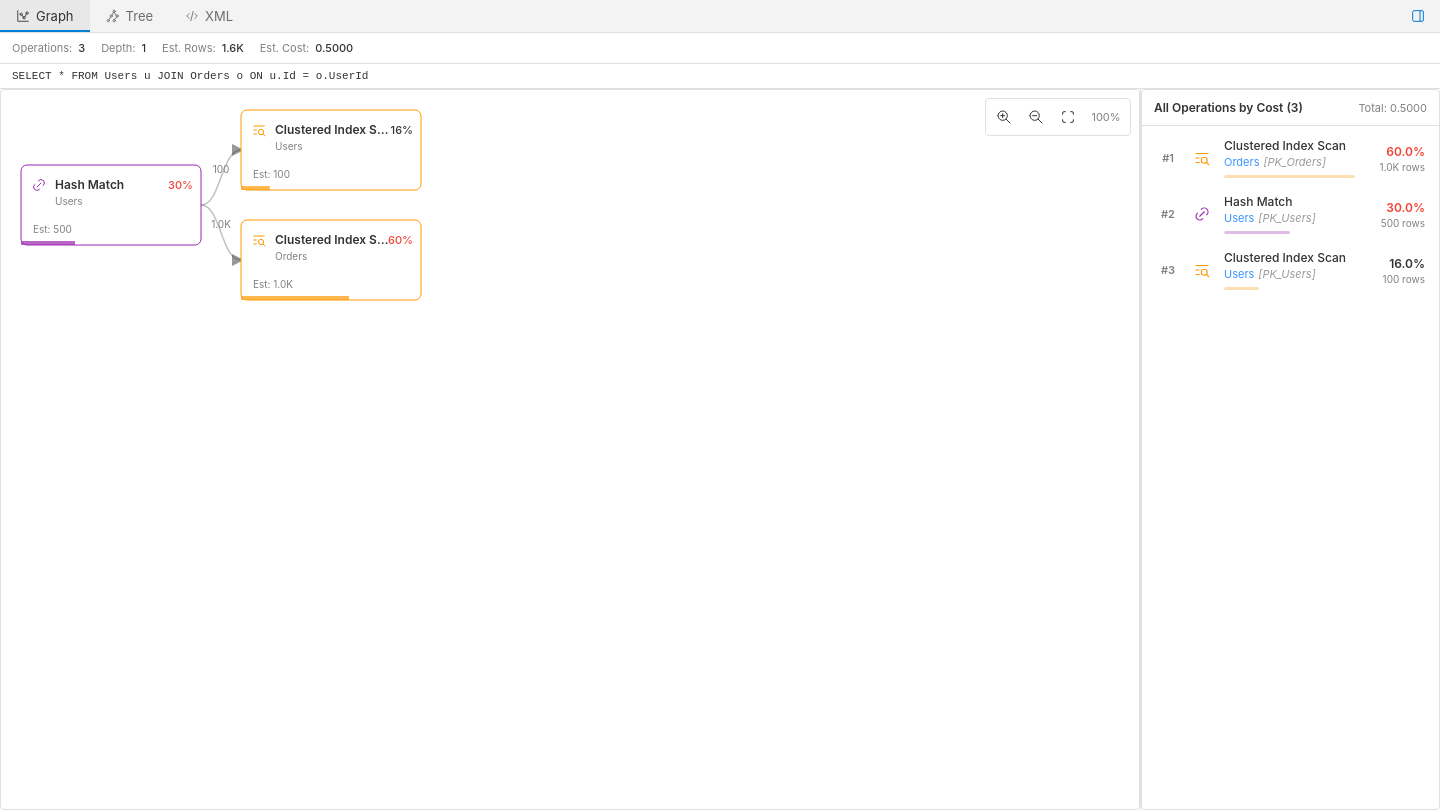
Test: QueryPlanView - Tree view › Collapsible sections › renders collapsible chevron for nodes with children
// Switch to tree view
Step 1. Click the button with test id "plan-tab-tree" → point(129, 16), box [90,0,169,32]
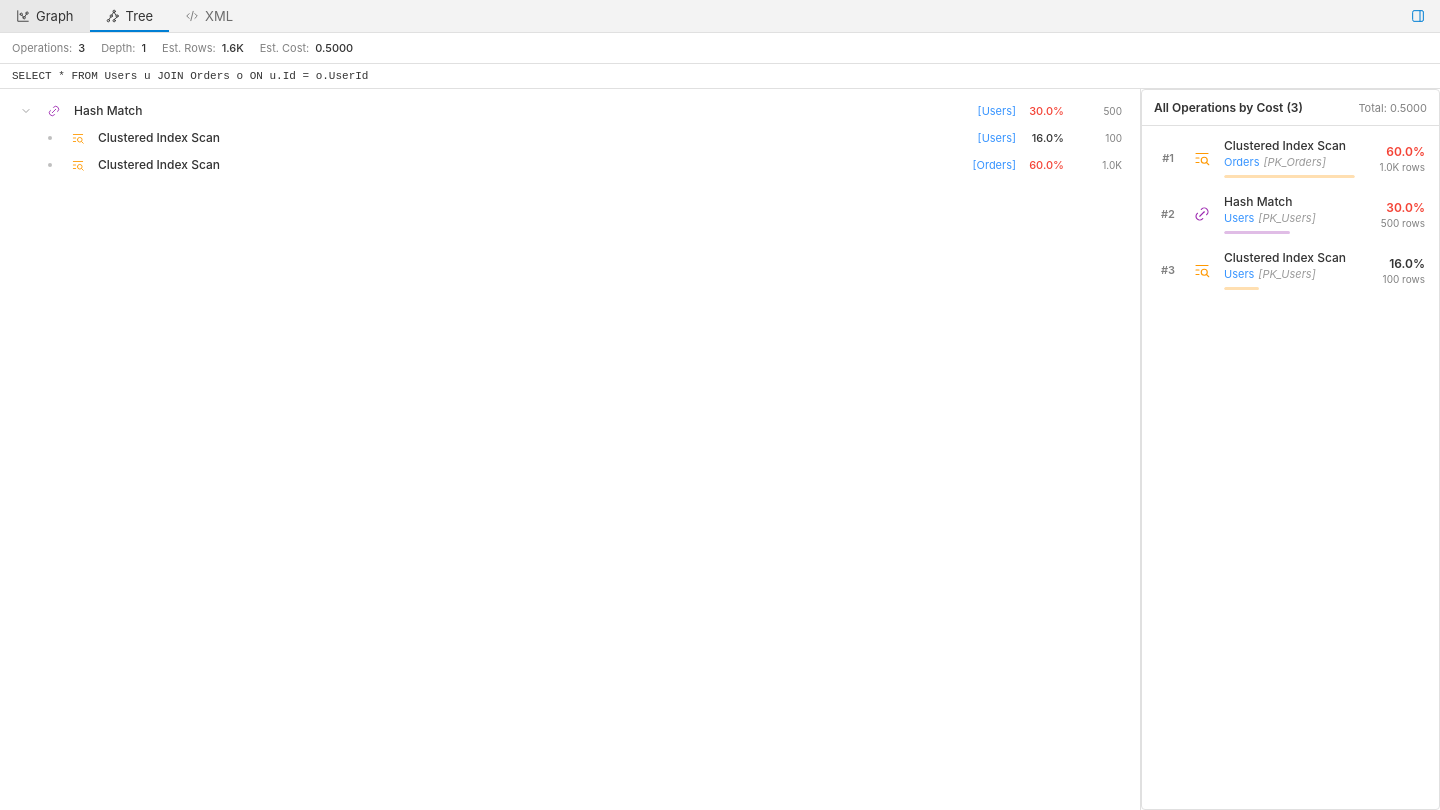
Now the element with class "clickable" is shown, box [20,104,32,116]
